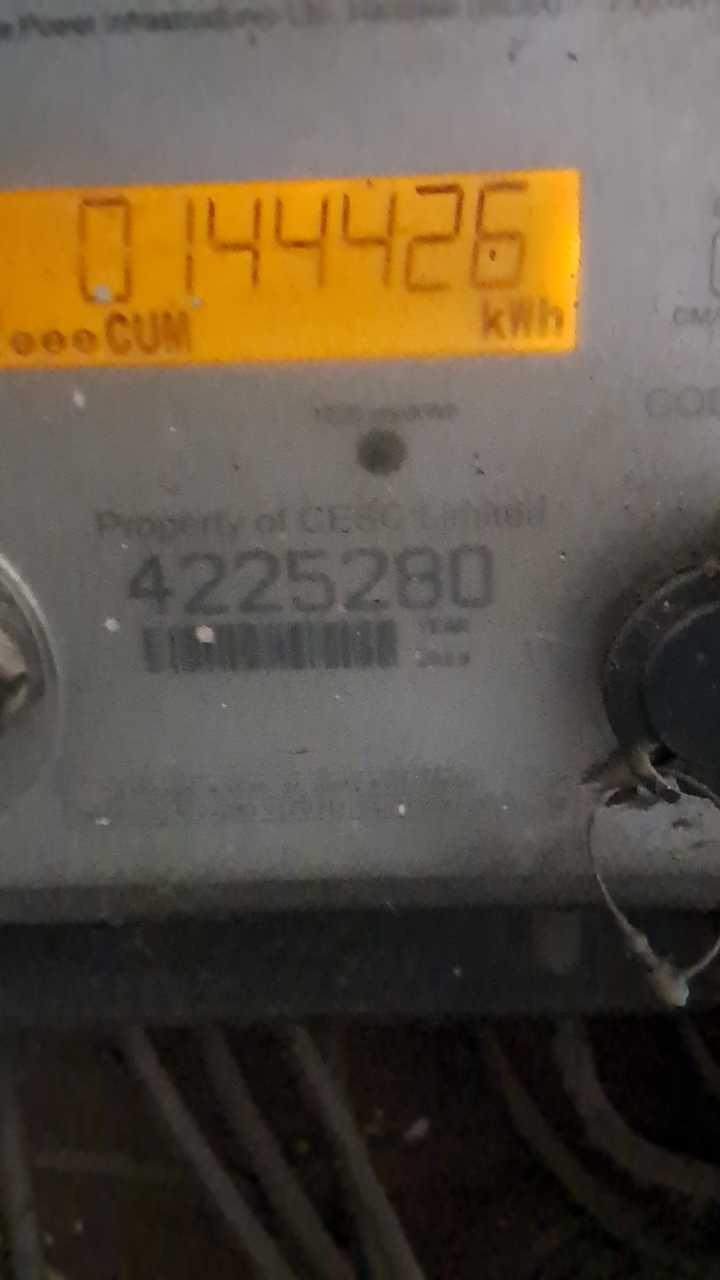meter_readings: (60, 182, 550, 293)
serial_number: (115, 544, 506, 613)
